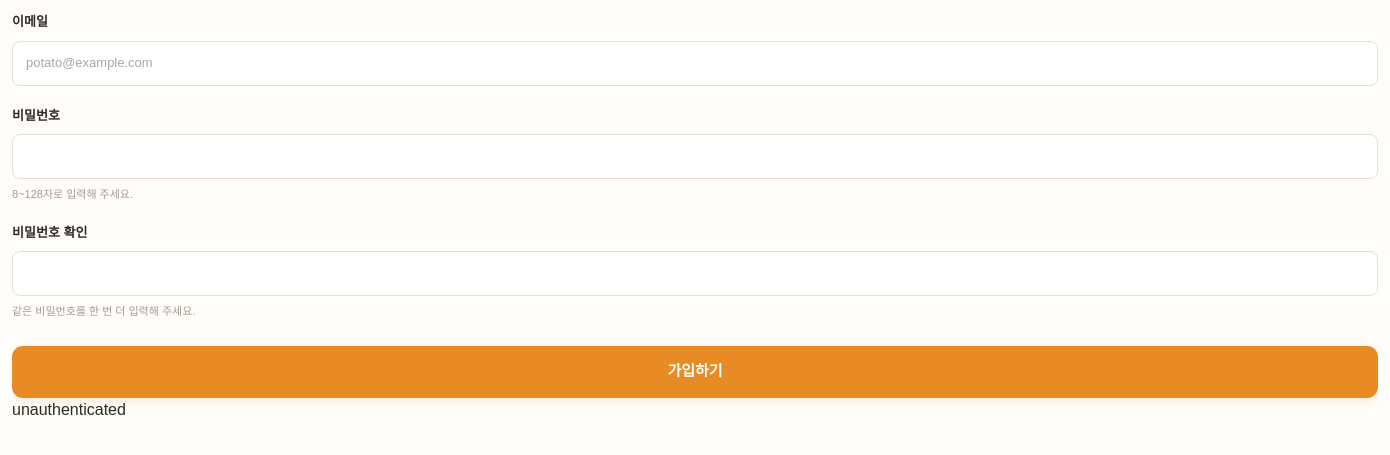
SignupForm › 빈 폼을 제출하면 필드별 메시지를 보여 주고 첫 에러 필드에 포커스한다
This screenshot has width=1390, height=455.
Expected: the text with test id "auth-status" does not show "loading", [12,400,126,418]
Click the button "가입하기". click: point(695, 372)
box: [12,346,1378,398]
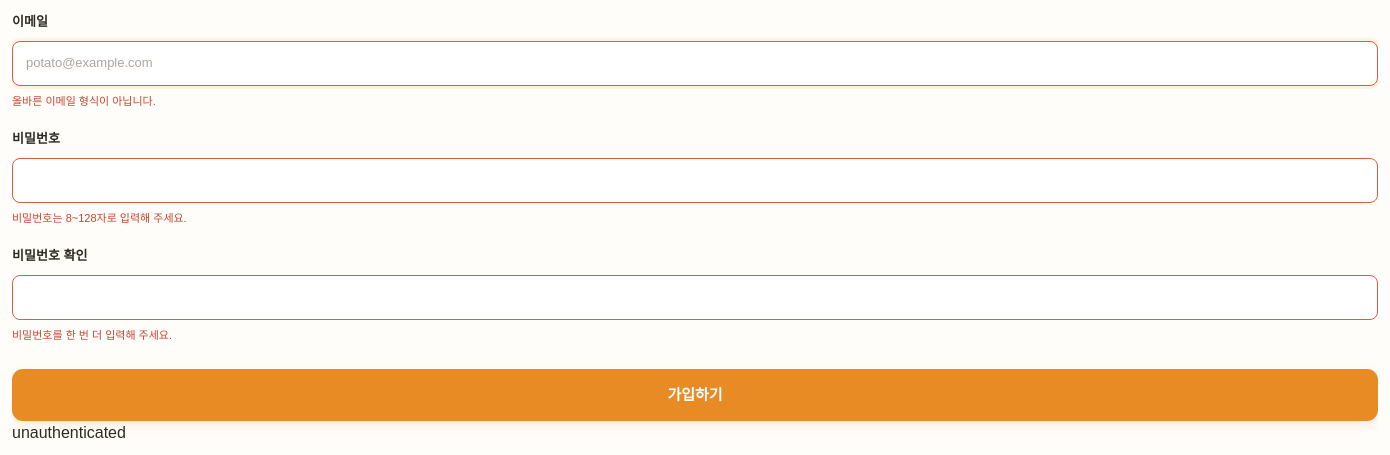
Expected: the text "올바른 이메일 형식이 아닙니다." is shown, [12,94,156,106]
Expected: the text "비밀번호는 8~128자로 입력해 주세요." is shown, [12,212,187,224]
Expected: the text "비밀번호를 한 번 더 입력해 주세요." is shown, [12,328,172,340]
